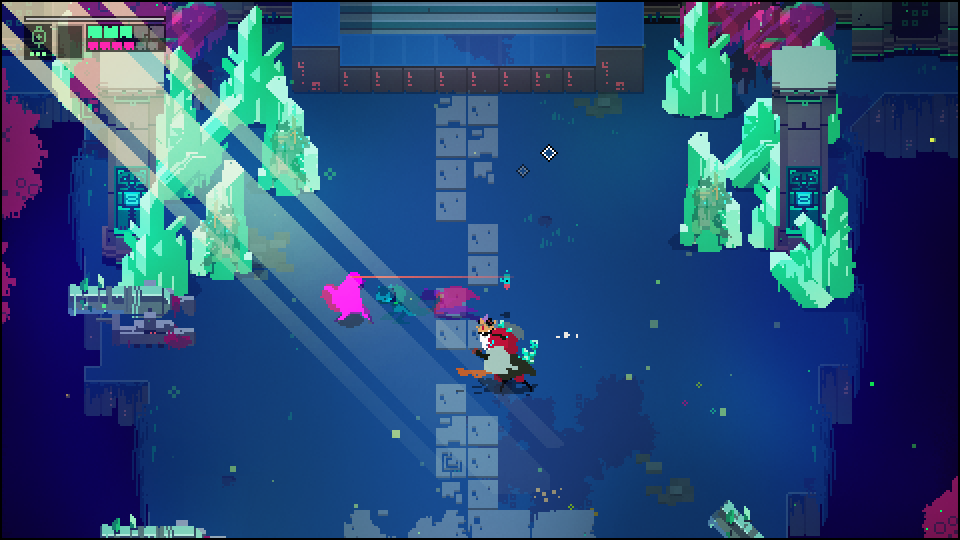hanged_man: (457, 313, 540, 396)
player: (322, 268, 380, 333)
